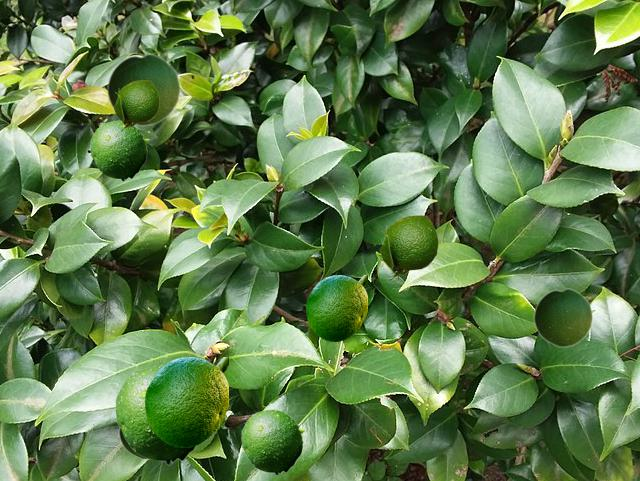dalandan: (115, 365, 195, 464), (145, 357, 227, 446), (106, 52, 180, 126), (241, 409, 304, 474), (306, 275, 366, 340), (379, 215, 437, 280), (533, 287, 592, 347), (90, 120, 148, 180), (113, 80, 158, 130), (118, 427, 147, 459)
